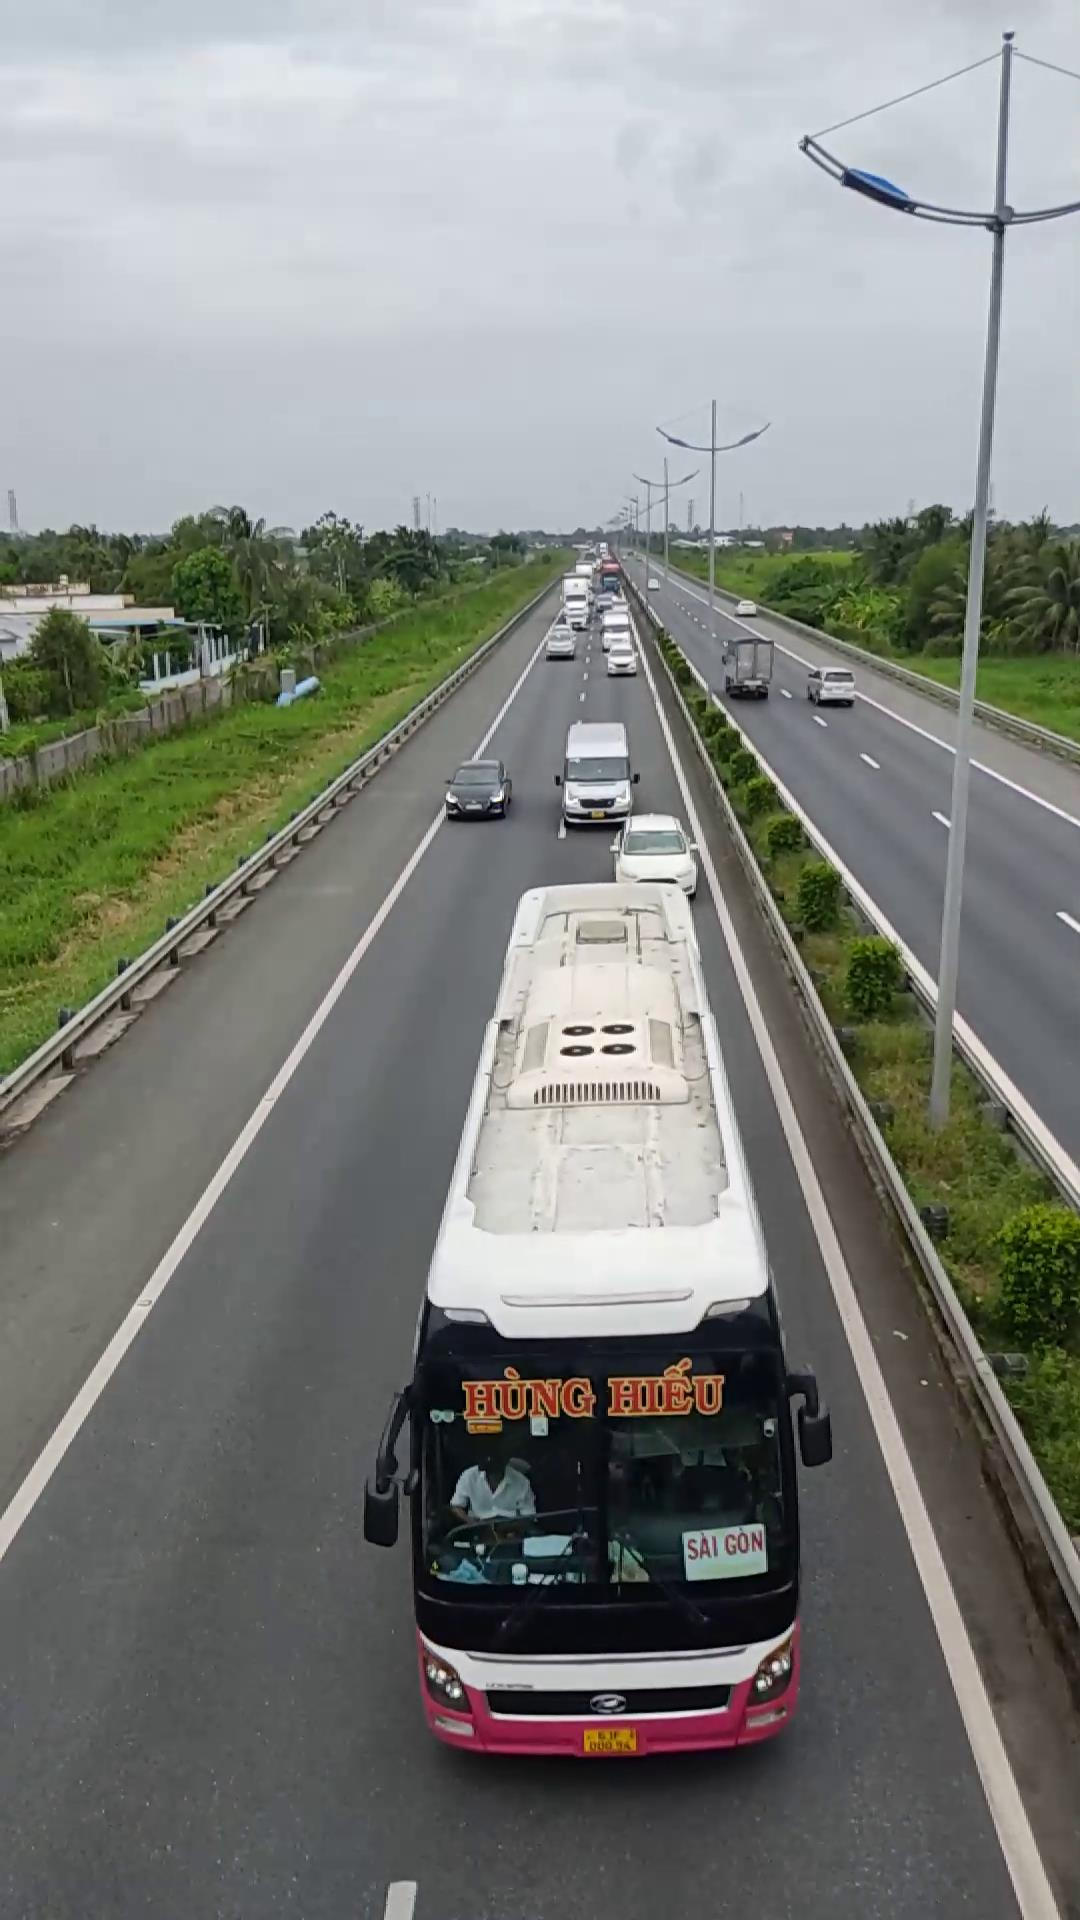bus: (380, 873, 827, 1774)
car: (554, 720, 640, 829), (443, 758, 514, 819)
